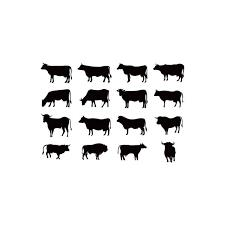cow: (41, 114, 73, 137), (77, 63, 113, 82), (42, 62, 73, 84), (78, 116, 111, 135), (116, 89, 148, 108), (116, 116, 148, 135), (117, 63, 148, 82), (117, 142, 147, 161), (152, 64, 185, 81), (41, 89, 72, 107), (80, 89, 110, 107), (153, 90, 183, 107), (155, 117, 184, 134), (80, 143, 108, 160), (41, 144, 70, 159), (160, 141, 177, 163)
